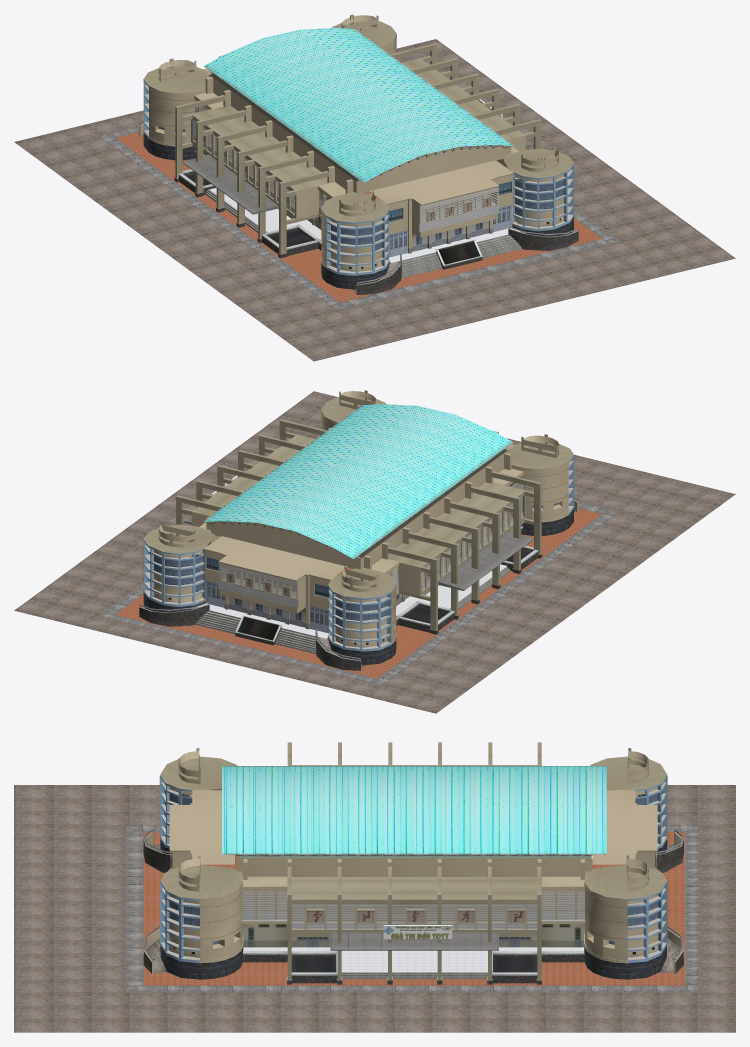
Rendered from sporting_event_hall.glb.
The picture shows the model from 3 angles, top to bottom: view 1: azimuth 30°, elevation 25°; view 2: azimuth 150°, elevation 25°; view 3: azimuth 270°, elevation 25°; orthographic projection. The views are drawn at different scales.
Visible parts, largest first — view 1: polySurface478; view 2: polySurface478; view 3: polySurface478.
Part boxes in pixels (x1,y1,x2,y2): polySurface478: [14, 14, 735, 361]; polySurface478: [14, 390, 735, 713]; polySurface478: [14, 742, 735, 1032].
Size of the model in its own units: 113 by 25.02 by 138.
8 materials, 7 textured.
